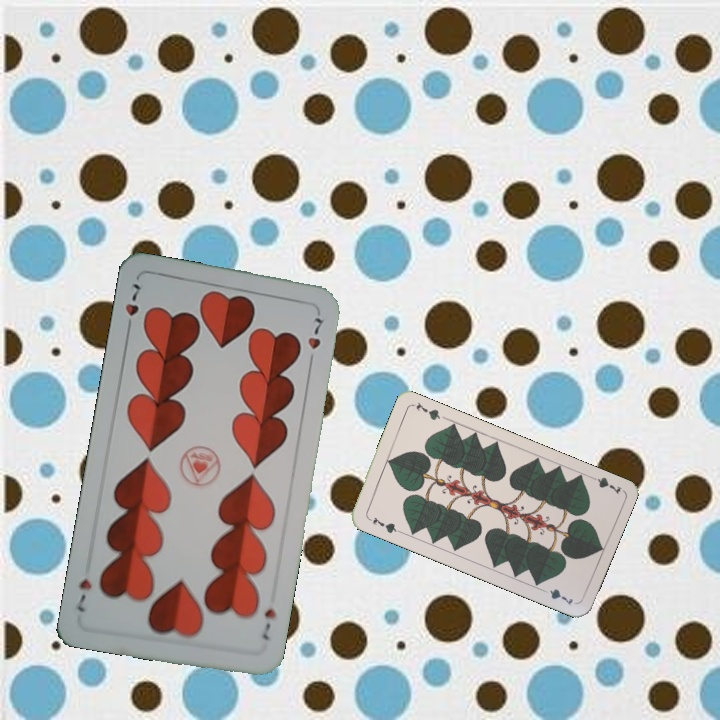G7: (584, 472, 624, 497), (364, 513, 402, 536)
H7: (121, 279, 144, 335), (258, 604, 279, 643)
